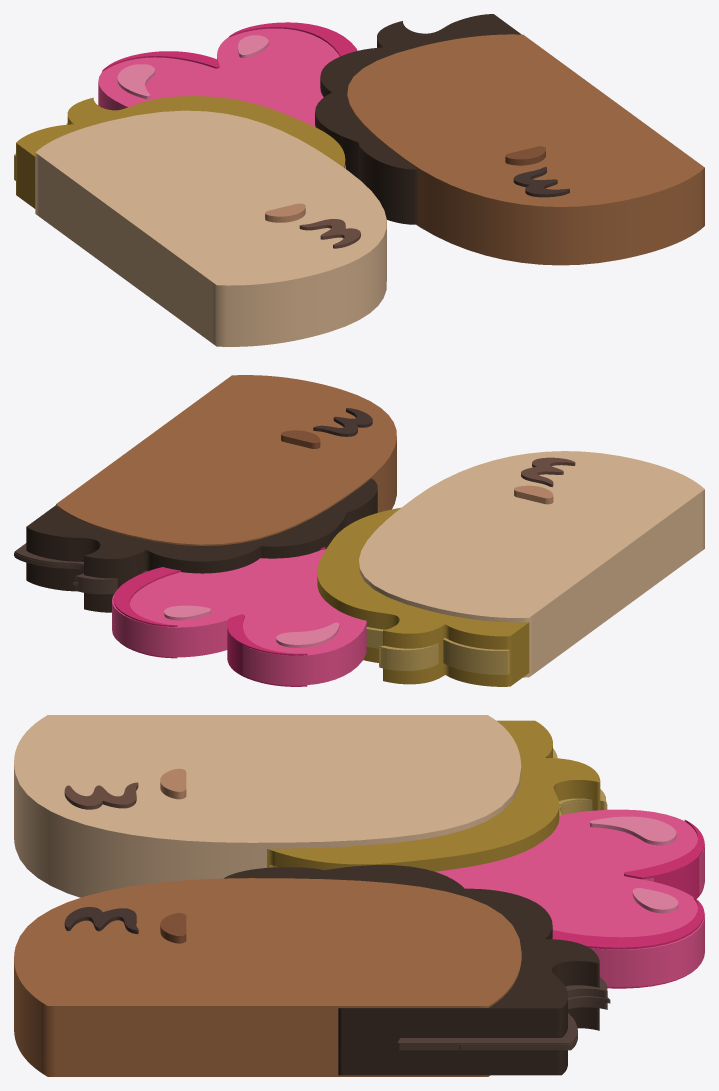
File: emoji_u1f9d1_1f3fc_200d_2764_200d_1f48b_200d_1f9d1_1f3fe.glb
3 renders of one model, top to bottom at view 1: azimuth 30°, elevation 25°; view 2: azimuth 150°, elevation 25°; view 3: azimuth 270°, elevation 25°, orthographic. The views are drawn at different scales.
Parts seen in each view (by area): view 1: emoji_u1f9d1_1f3fc_200d_2764_200d_1f48b_200d_1f9d1_1f3fe; view 2: emoji_u1f9d1_1f3fc_200d_2764_200d_1f48b_200d_1f9d1_1f3fe; view 3: emoji_u1f9d1_1f3fc_200d_2764_200d_1f48b_200d_1f9d1_1f3fe.
Part boxes in pixels (box(x1,y1,x2,y2)): emoji_u1f9d1_1f3fc_200d_2764_200d_1f48b_200d_1f9d1_1f3fe: box(14, 14, 704, 346); emoji_u1f9d1_1f3fc_200d_2764_200d_1f48b_200d_1f9d1_1f3fe: box(14, 375, 704, 686); emoji_u1f9d1_1f3fc_200d_2764_200d_1f48b_200d_1f9d1_1f3fe: box(14, 715, 704, 1076).
Size of the model in its own units: 0.0339 by 0.0048 by 0.0336.
